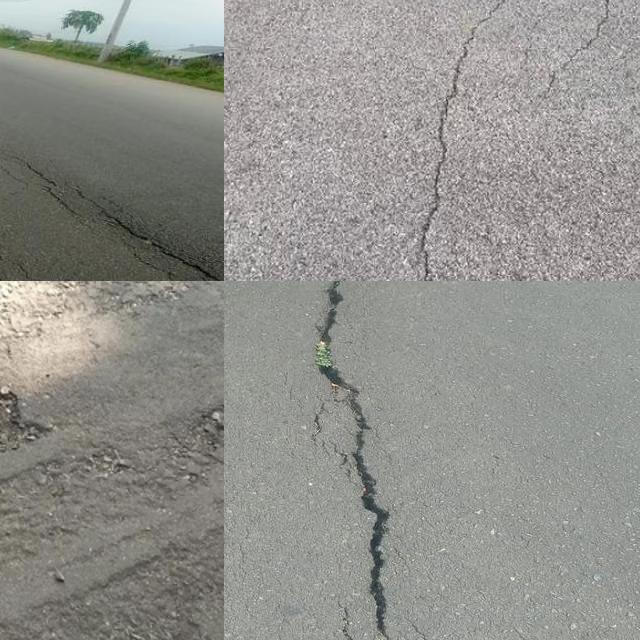Lubang: (0, 392, 48, 465)
Memanjang: (300, 281, 400, 640), (399, 0, 516, 281), (22, 154, 224, 281)
